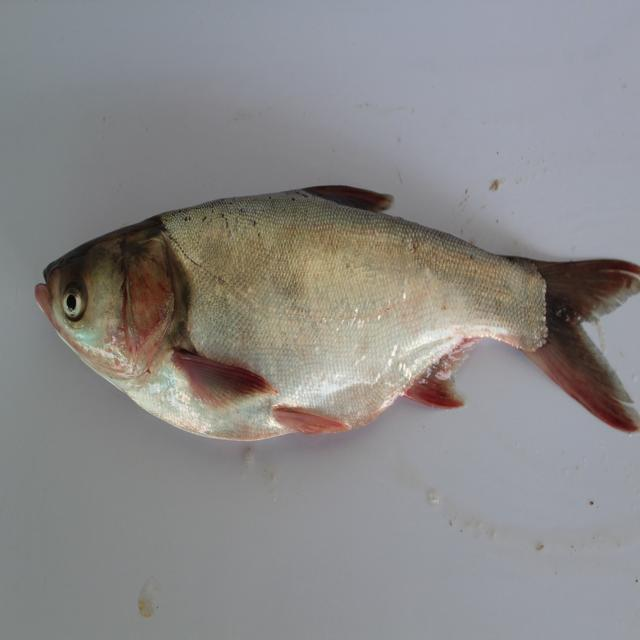SilverCarp: (35, 169, 640, 479)
